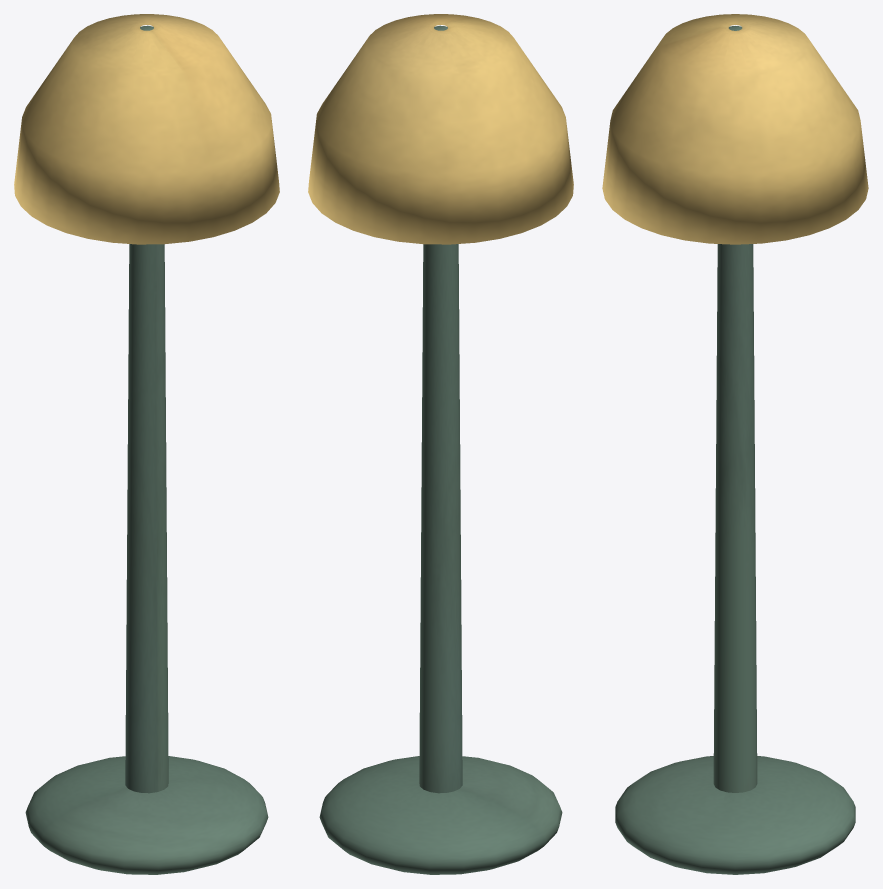
The model's file is lamp-moon.glb.
The picture shows the model from 3 angles, left to right: view 1: azimuth 30°, elevation 25°; view 2: azimuth 150°, elevation 25°; view 3: azimuth 270°, elevation 25°; orthographic projection.
Visible parts, largest first — view 1: shade, metal (×2); view 2: shade, metal (×2); view 3: shade, metal (×2).
Part boxes in pixels (x1,y1,x2,y2): shade: (14, 14, 279, 244); metal (×2): (25, 244, 268, 874); shade: (308, 14, 573, 244); metal (×2): (319, 244, 562, 874); shade: (602, 14, 868, 244); metal (×2): (615, 244, 855, 874).
Bounding box in the file's own units: 0.46 × 1.56 × 0.46.
Materials: 3 (3 with a texture image).
